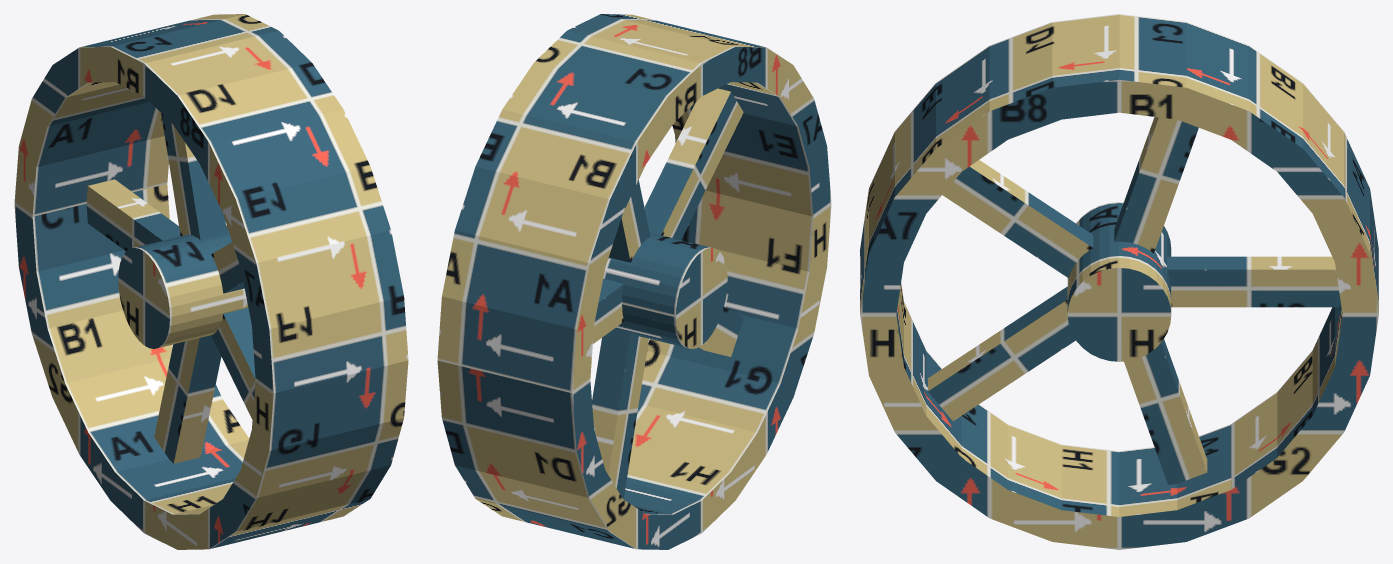
File: VENT_FanHousing.fbx
The picture shows the model from 3 angles, left to right: view 1: azimuth 30°, elevation 25°; view 2: azimuth 150°, elevation 25°; view 3: azimuth 270°, elevation 25°; orthographic projection.
Parts seen in each view (by area): view 1: VENT_FanHousing; view 2: VENT_FanHousing; view 3: VENT_FanHousing.
Boxes of the visible parts, x1=… form: VENT_FanHousing: x1=14, y1=14, x2=408, y2=549; VENT_FanHousing: x1=437, y1=14, x2=831, y2=549; VENT_FanHousing: x1=860, y1=14, x2=1378, y2=549.
Size of the model in its own units: 30 by 100 by 100.
1 material, 1 textured.
